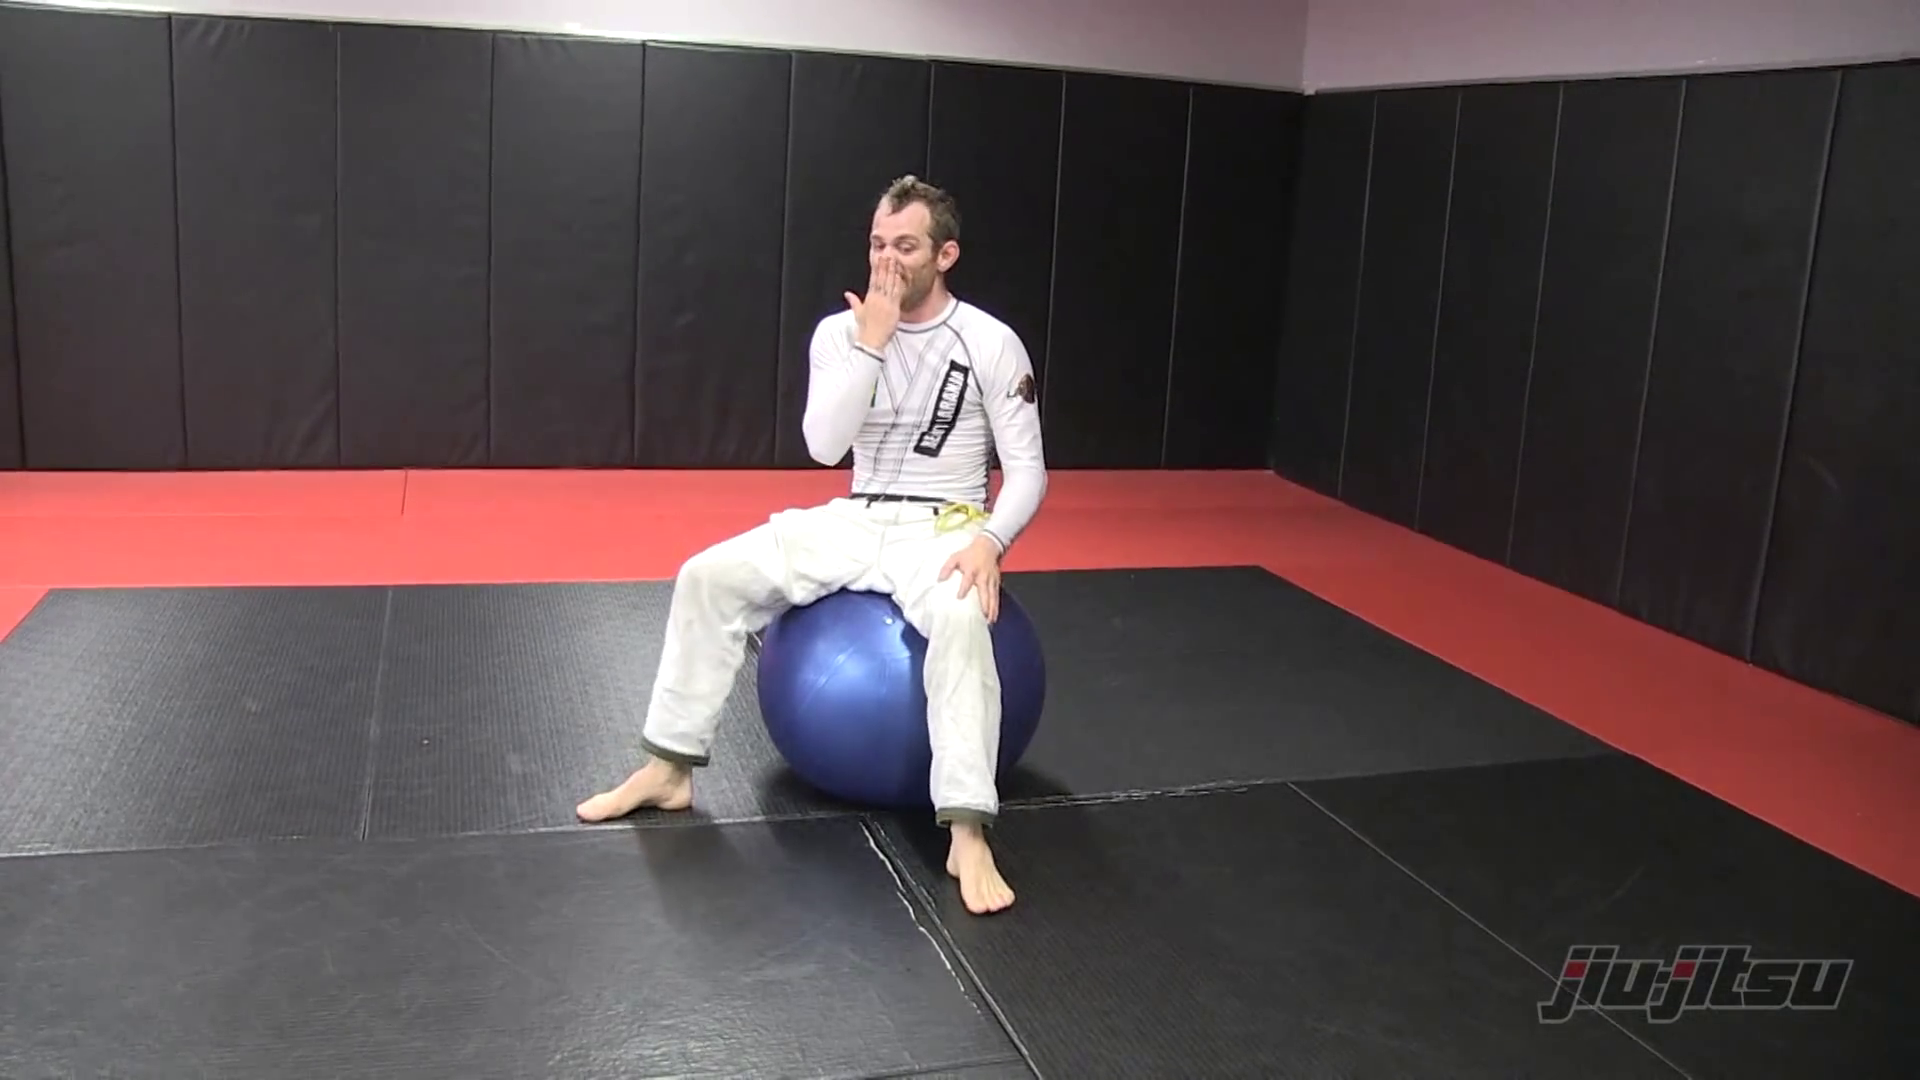yogaball: (731, 568, 1084, 822)
